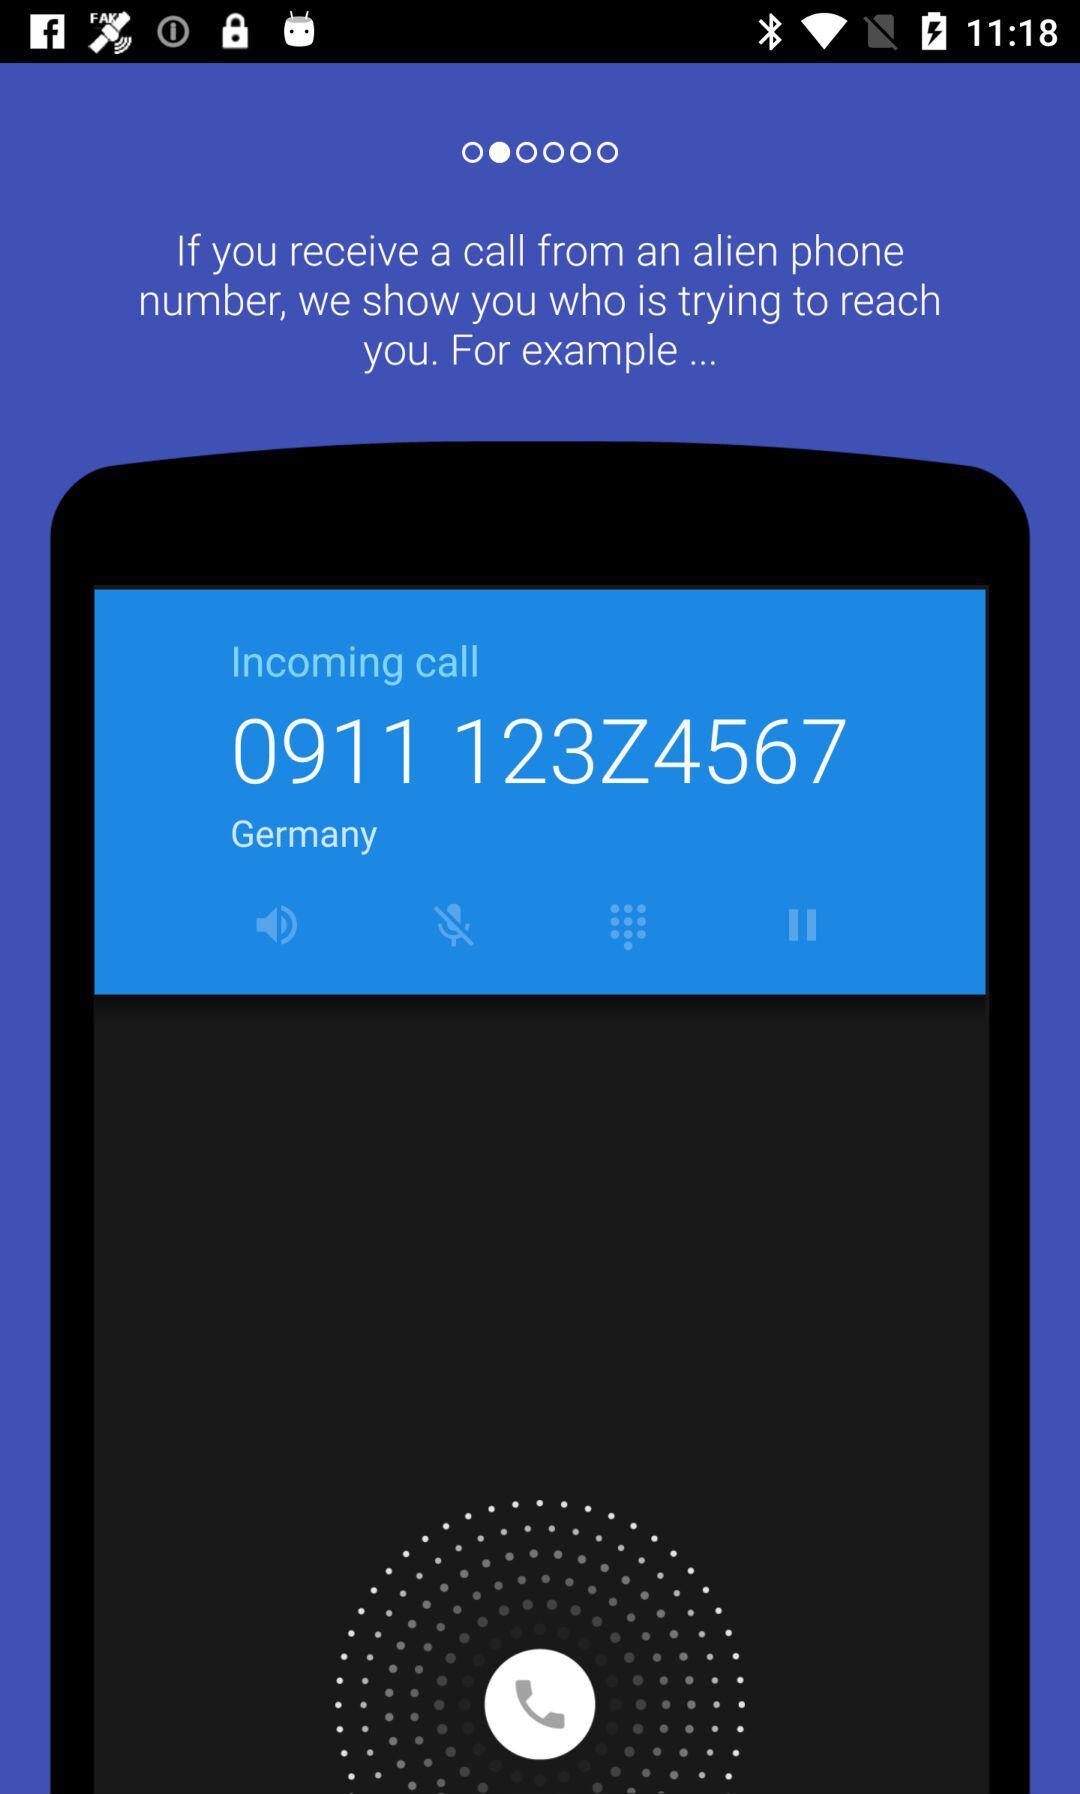Image: (51, 441, 1030, 1794)
PageIndicator: (462, 141, 620, 165)
Text: (141, 233, 942, 375)
UpperTaskBar: (1, 1, 1080, 64)
